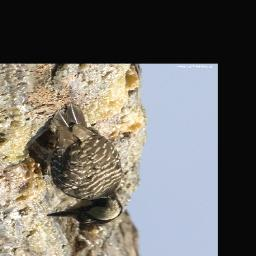Woodpecker: (26, 100, 124, 227)
